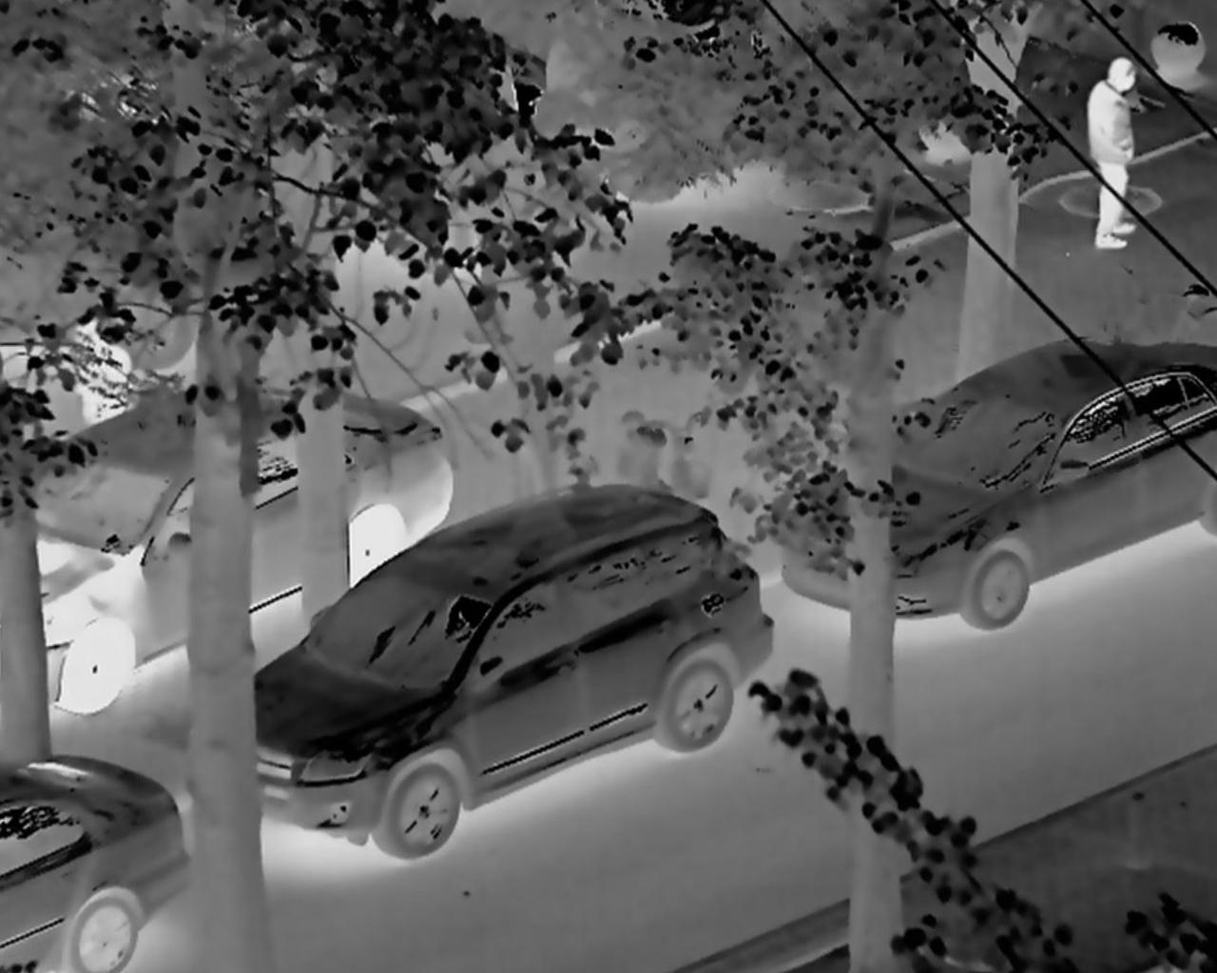person: (1062, 49, 1156, 263)
